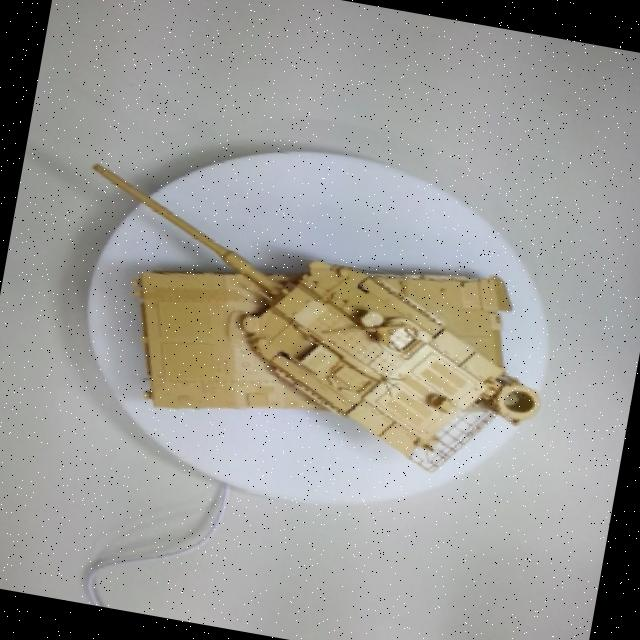korea tank: (4, 106, 592, 537)
